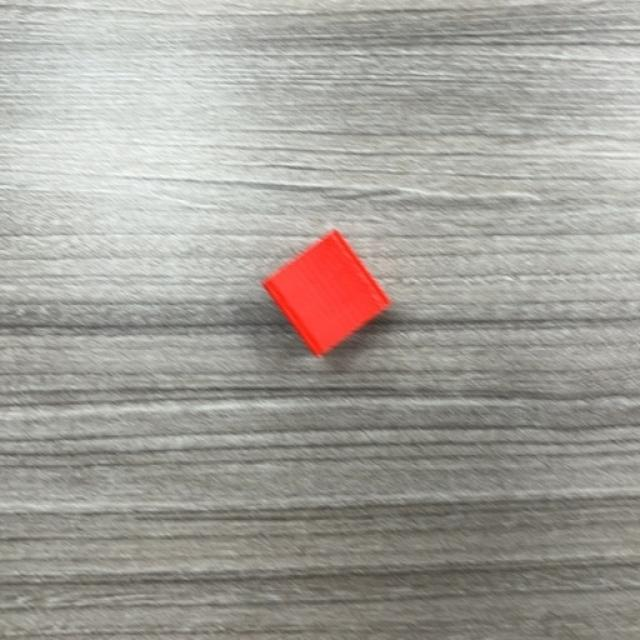Rojo: (261, 229, 391, 359)
